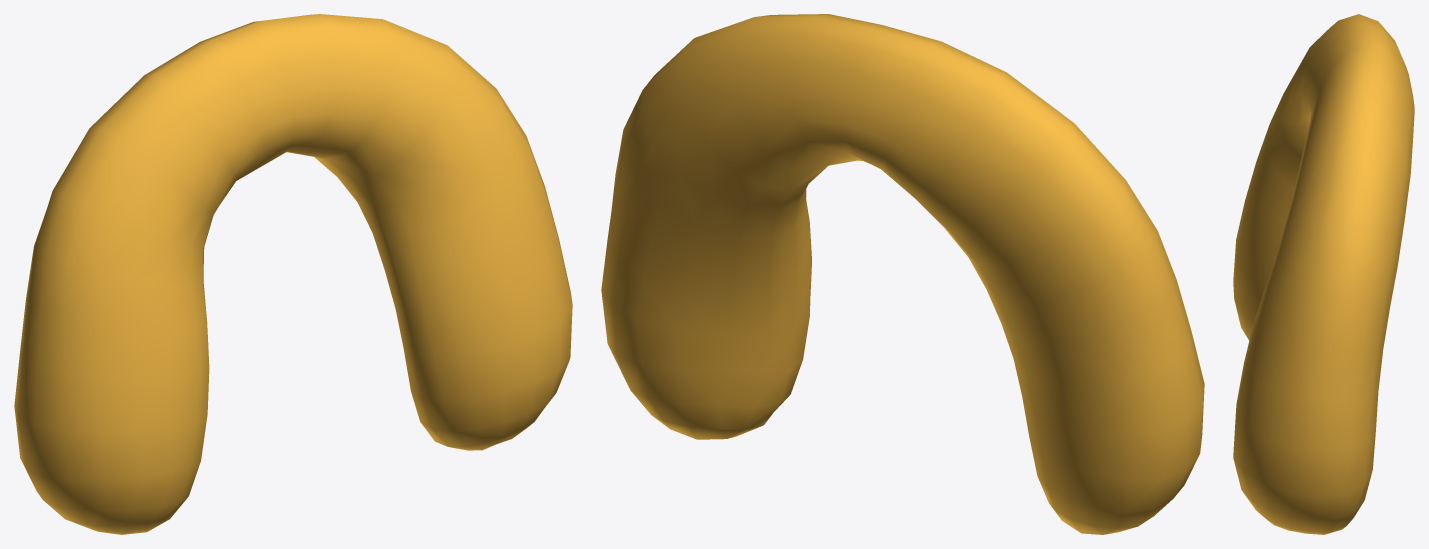
Rendered from mustache.obj.
The picture shows the model from 3 angles, left to right: view 1: azimuth 30°, elevation 25°; view 2: azimuth 150°, elevation 25°; view 3: azimuth 270°, elevation 25°; orthographic projection. The views are drawn at different scales.
Parts seen in each view (by area): view 1: mustache Jake; view 2: mustache Jake; view 3: mustache Jake.
Part boxes in pixels (x1,y1,x2,y2): mustache Jake: [14, 14, 572, 534]; mustache Jake: [601, 14, 1204, 534]; mustache Jake: [1233, 14, 1414, 534].
Size of the model in its own units: 3.08 by 2.4 by 0.9792.
